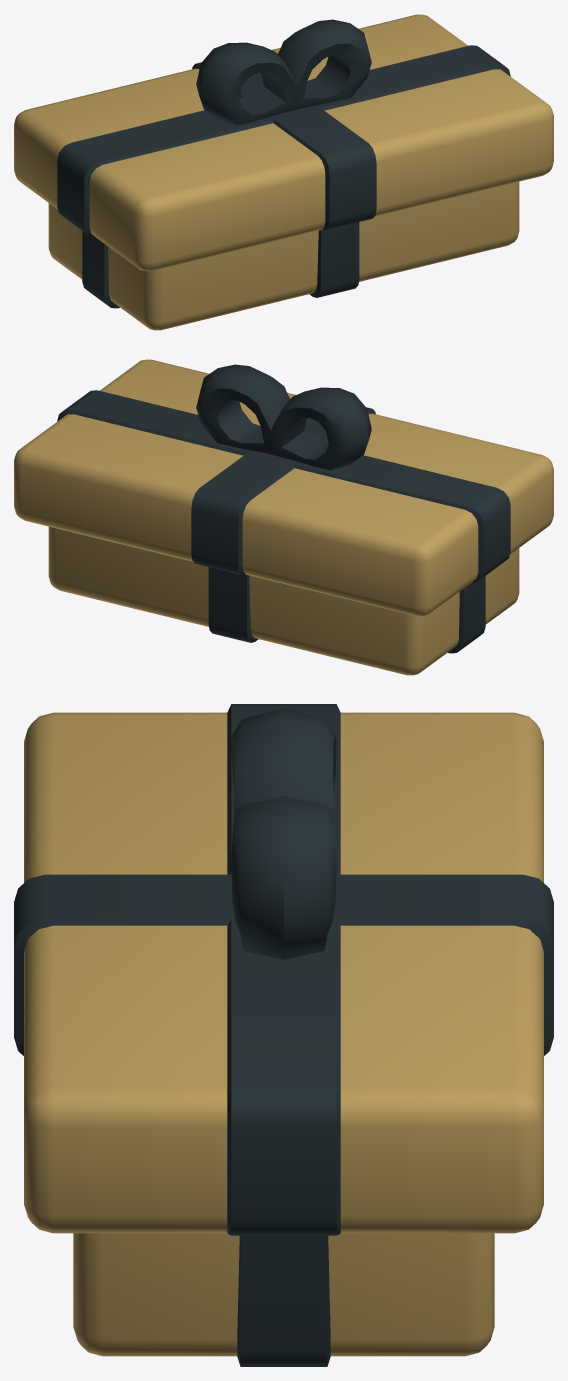
The model's file is giftG.gltf.glb.
3 renders of one model, top to bottom at view 1: azimuth 30°, elevation 25°; view 2: azimuth 150°, elevation 25°; view 3: azimuth 270°, elevation 25°, orthographic. The views are drawn at different scales.
Parts seen in each view (by area): view 1: giftG; view 2: giftG; view 3: giftG.
Part boxes in pixels (<box>): giftG: <box>14,14,553,330</box>; giftG: <box>14,359,553,675</box>; giftG: <box>14,704,553,1366</box>.
Size of the model in its own units: 1.17 by 0.577 by 0.6576.
